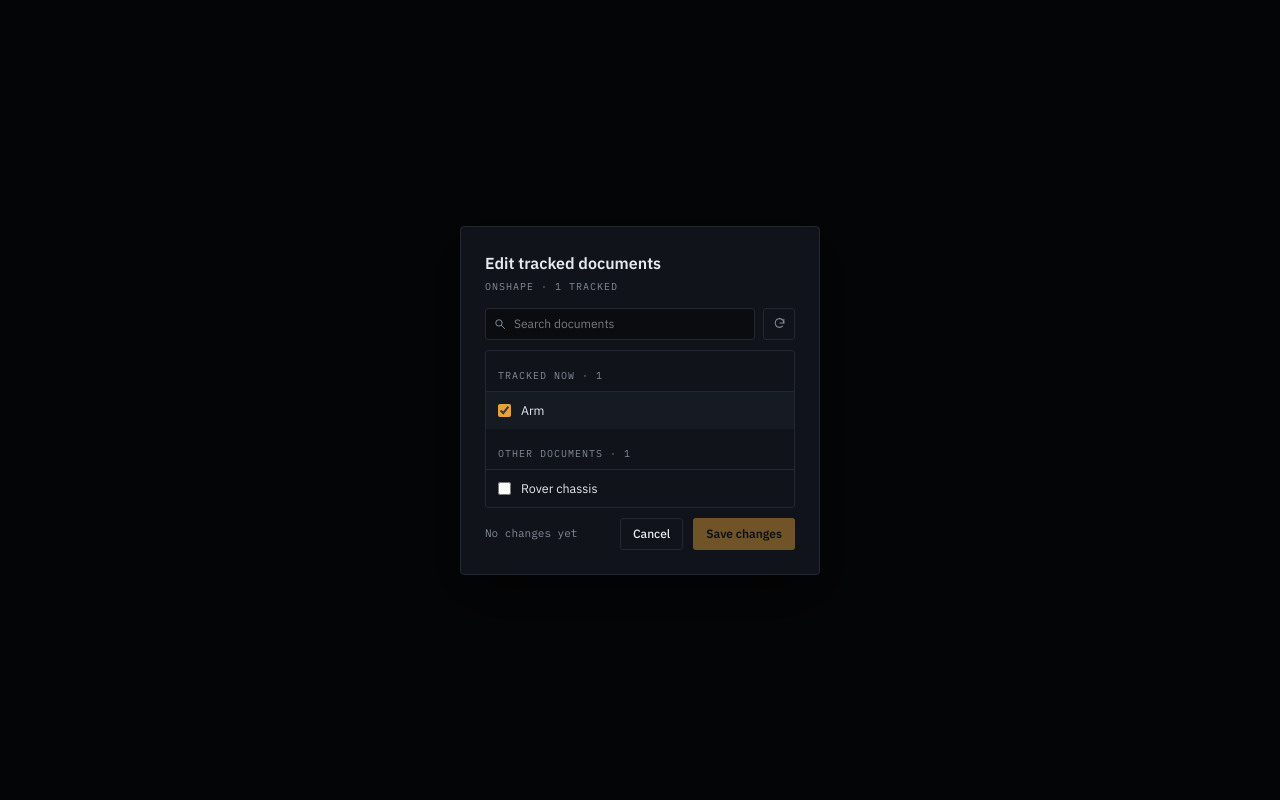
Test: explicitly refreshes the scoped source without saving or syncing
Expected: the checkbox labelled "Arm" is shown, [498,404,511,416]
Click the button named "Refresh documents".
click(779, 324)  # box [763,308,795,340]
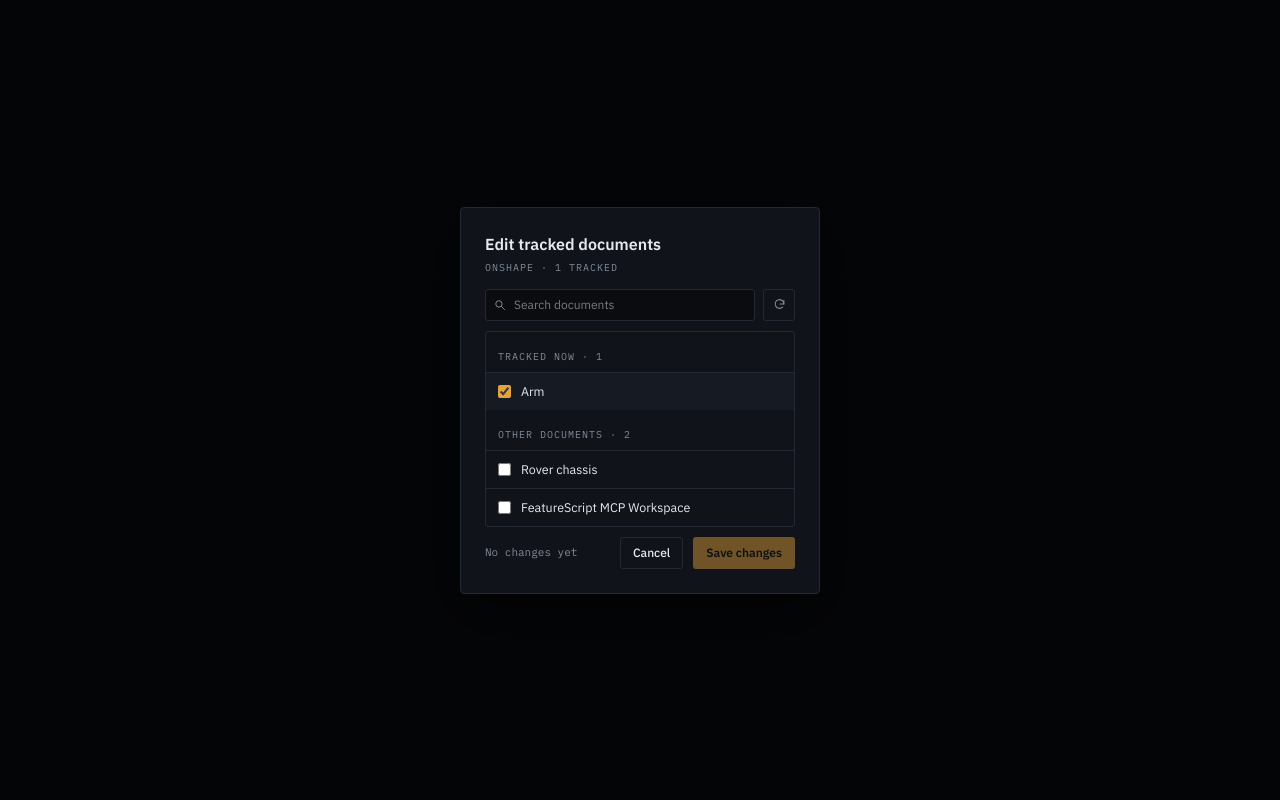
Expected: the checkbox labelled "Arm" is checked, [498,384,511,398]
Expected: the checkbox labelled "FeatureScript MCP Workspace" is shown, [498,500,511,514]
